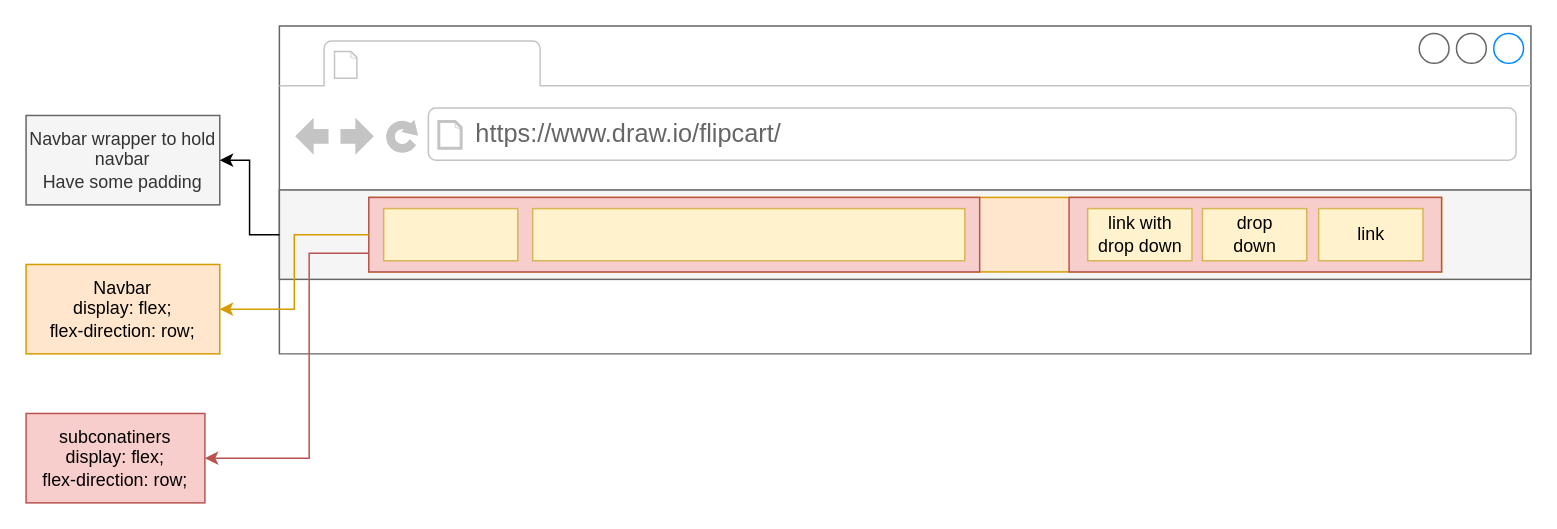
This 1557x529 diagram has some shape labels left out. The centre of each missing label's shape, as x and y in pixels:
"logo and sublink" goes at (x=450, y=234).
"Page 1" goes at (x=450, y=62).
"Search bar" goes at (x=748, y=234).
